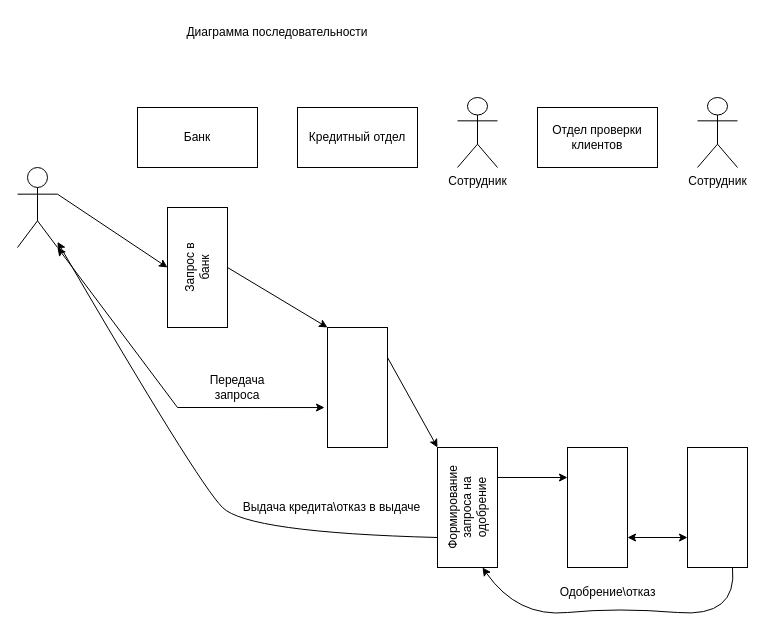
Some shapes in this 765 by 631 pixel diagram are drawn without their labels. Here are the shapes that lost their labels. From the top down, the centre of each, then its label:
point 37,207: Клиент
point 357,387: Запрос необходимых документов
point 597,507: Прием и обработка запроса
point 717,507: Принятие решения
